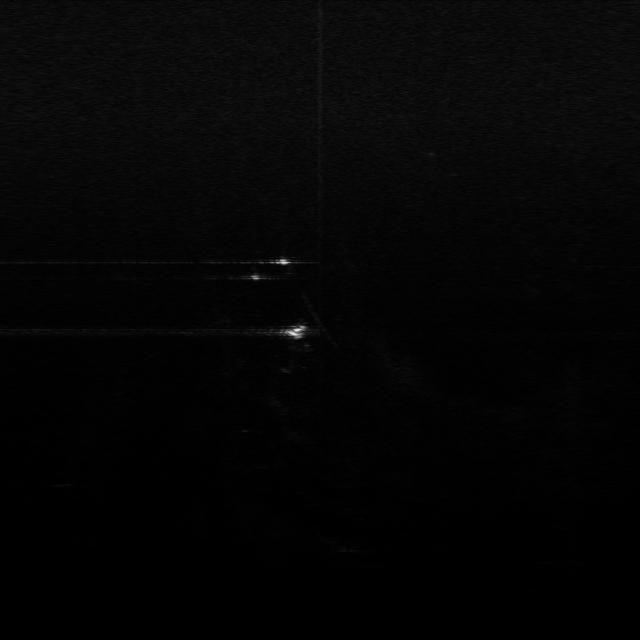rov: (276, 320, 316, 342)
